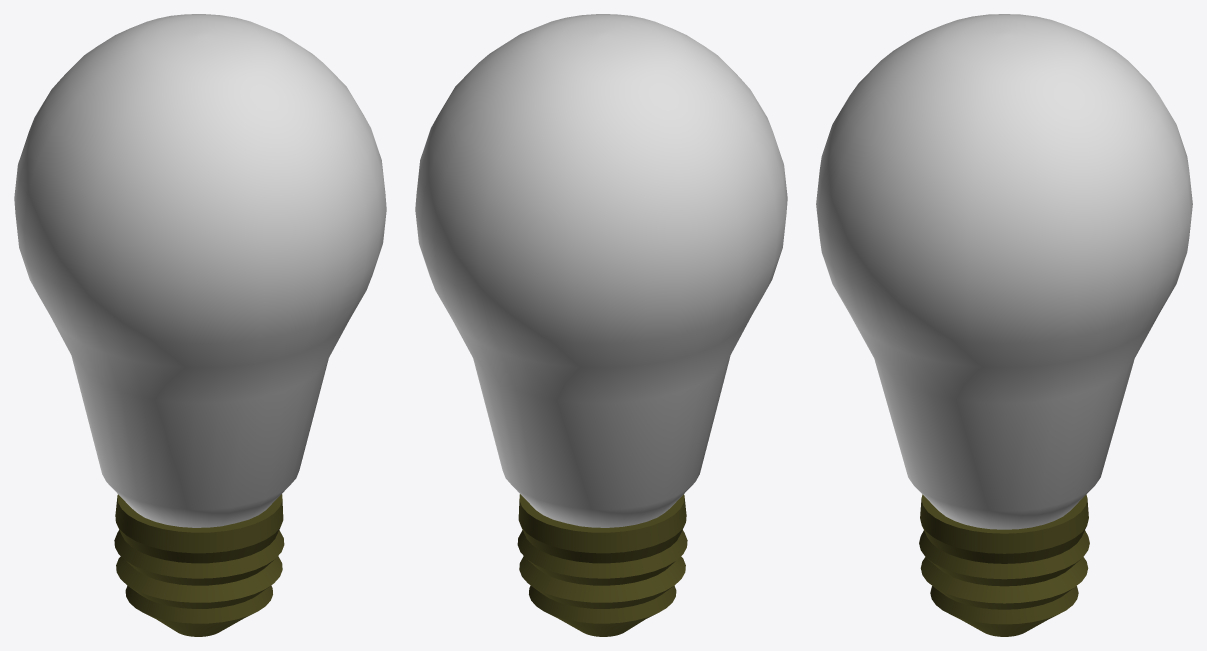
Rendered from Lightbulb.glb.
3 renders of one model, left to right at view 1: azimuth 30°, elevation 25°; view 2: azimuth 150°, elevation 25°; view 3: azimuth 270°, elevation 25°, orthographic.
Visible parts, largest first — view 1: lightbulb; view 2: lightbulb; view 3: lightbulb.
Boxes of the visible parts, x1=… form: lightbulb: x1=14, y1=14, x2=386, y2=636; lightbulb: x1=415, y1=14, x2=787, y2=636; lightbulb: x1=816, y1=14, x2=1192, y2=636.
Size of the model in its own units: 0.6521 by 1.15 by 0.6622.
